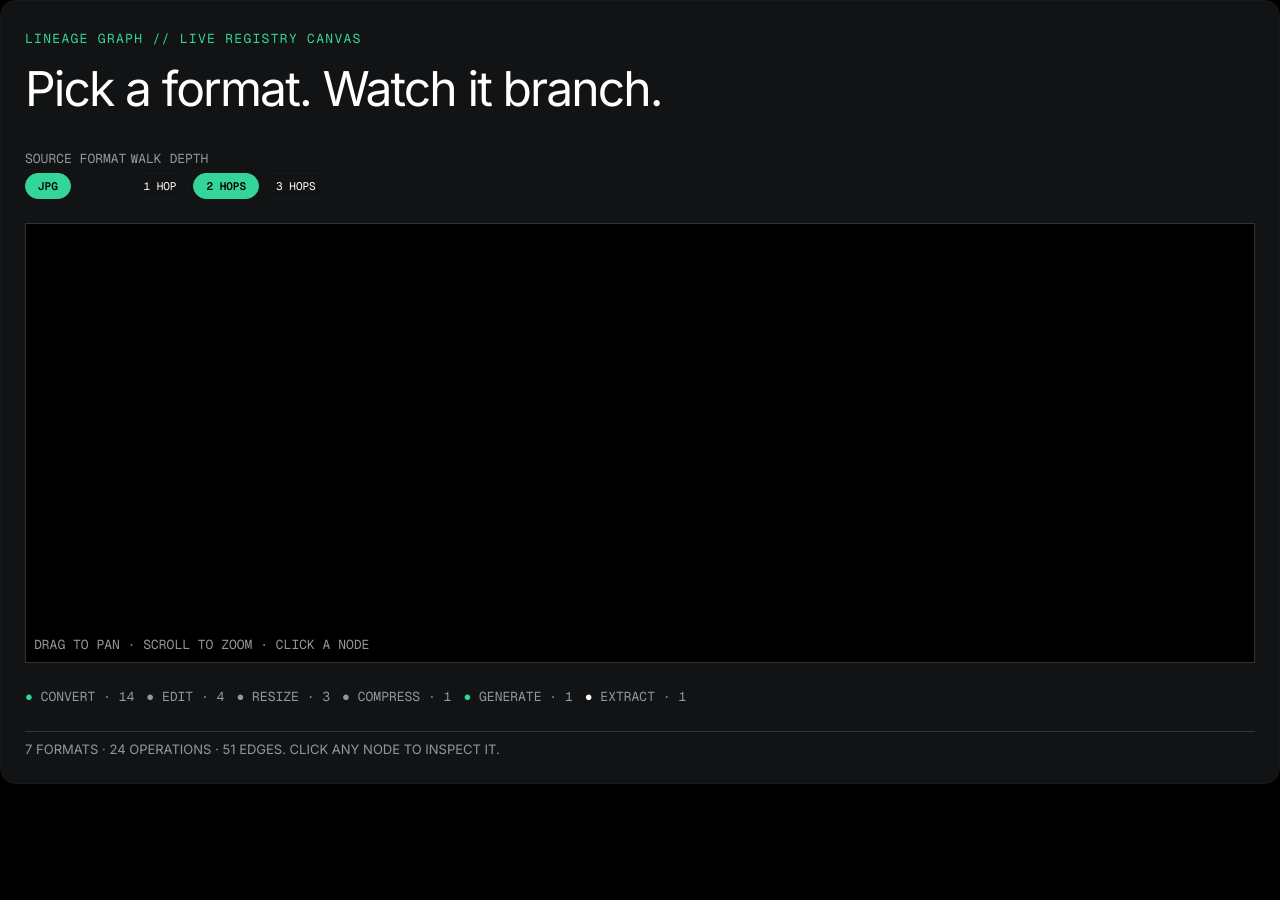
Test: LineageExplorer › selects the root node on canvas click and offers a walk onward
The image size is (1280, 900).
Press the mouse on the picture named "Conversion graph for JPG": coordinates (640, 444) [26,224,1254,664]
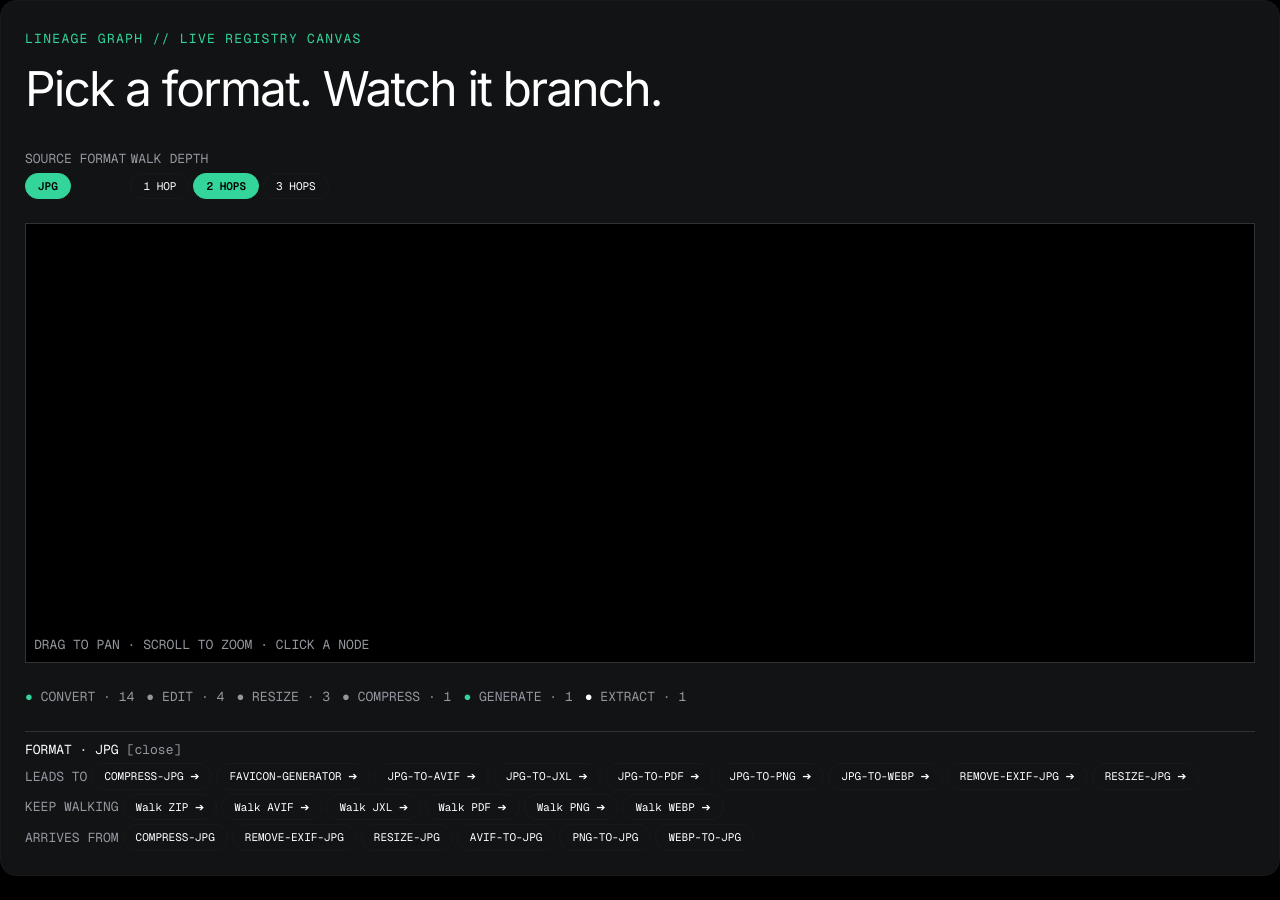
Check: the text "FORMAT · JPG" is shown, box [25,740,119,759]
Check: the button "Walk PNG ➔" is shown, box [524,794,618,820]
